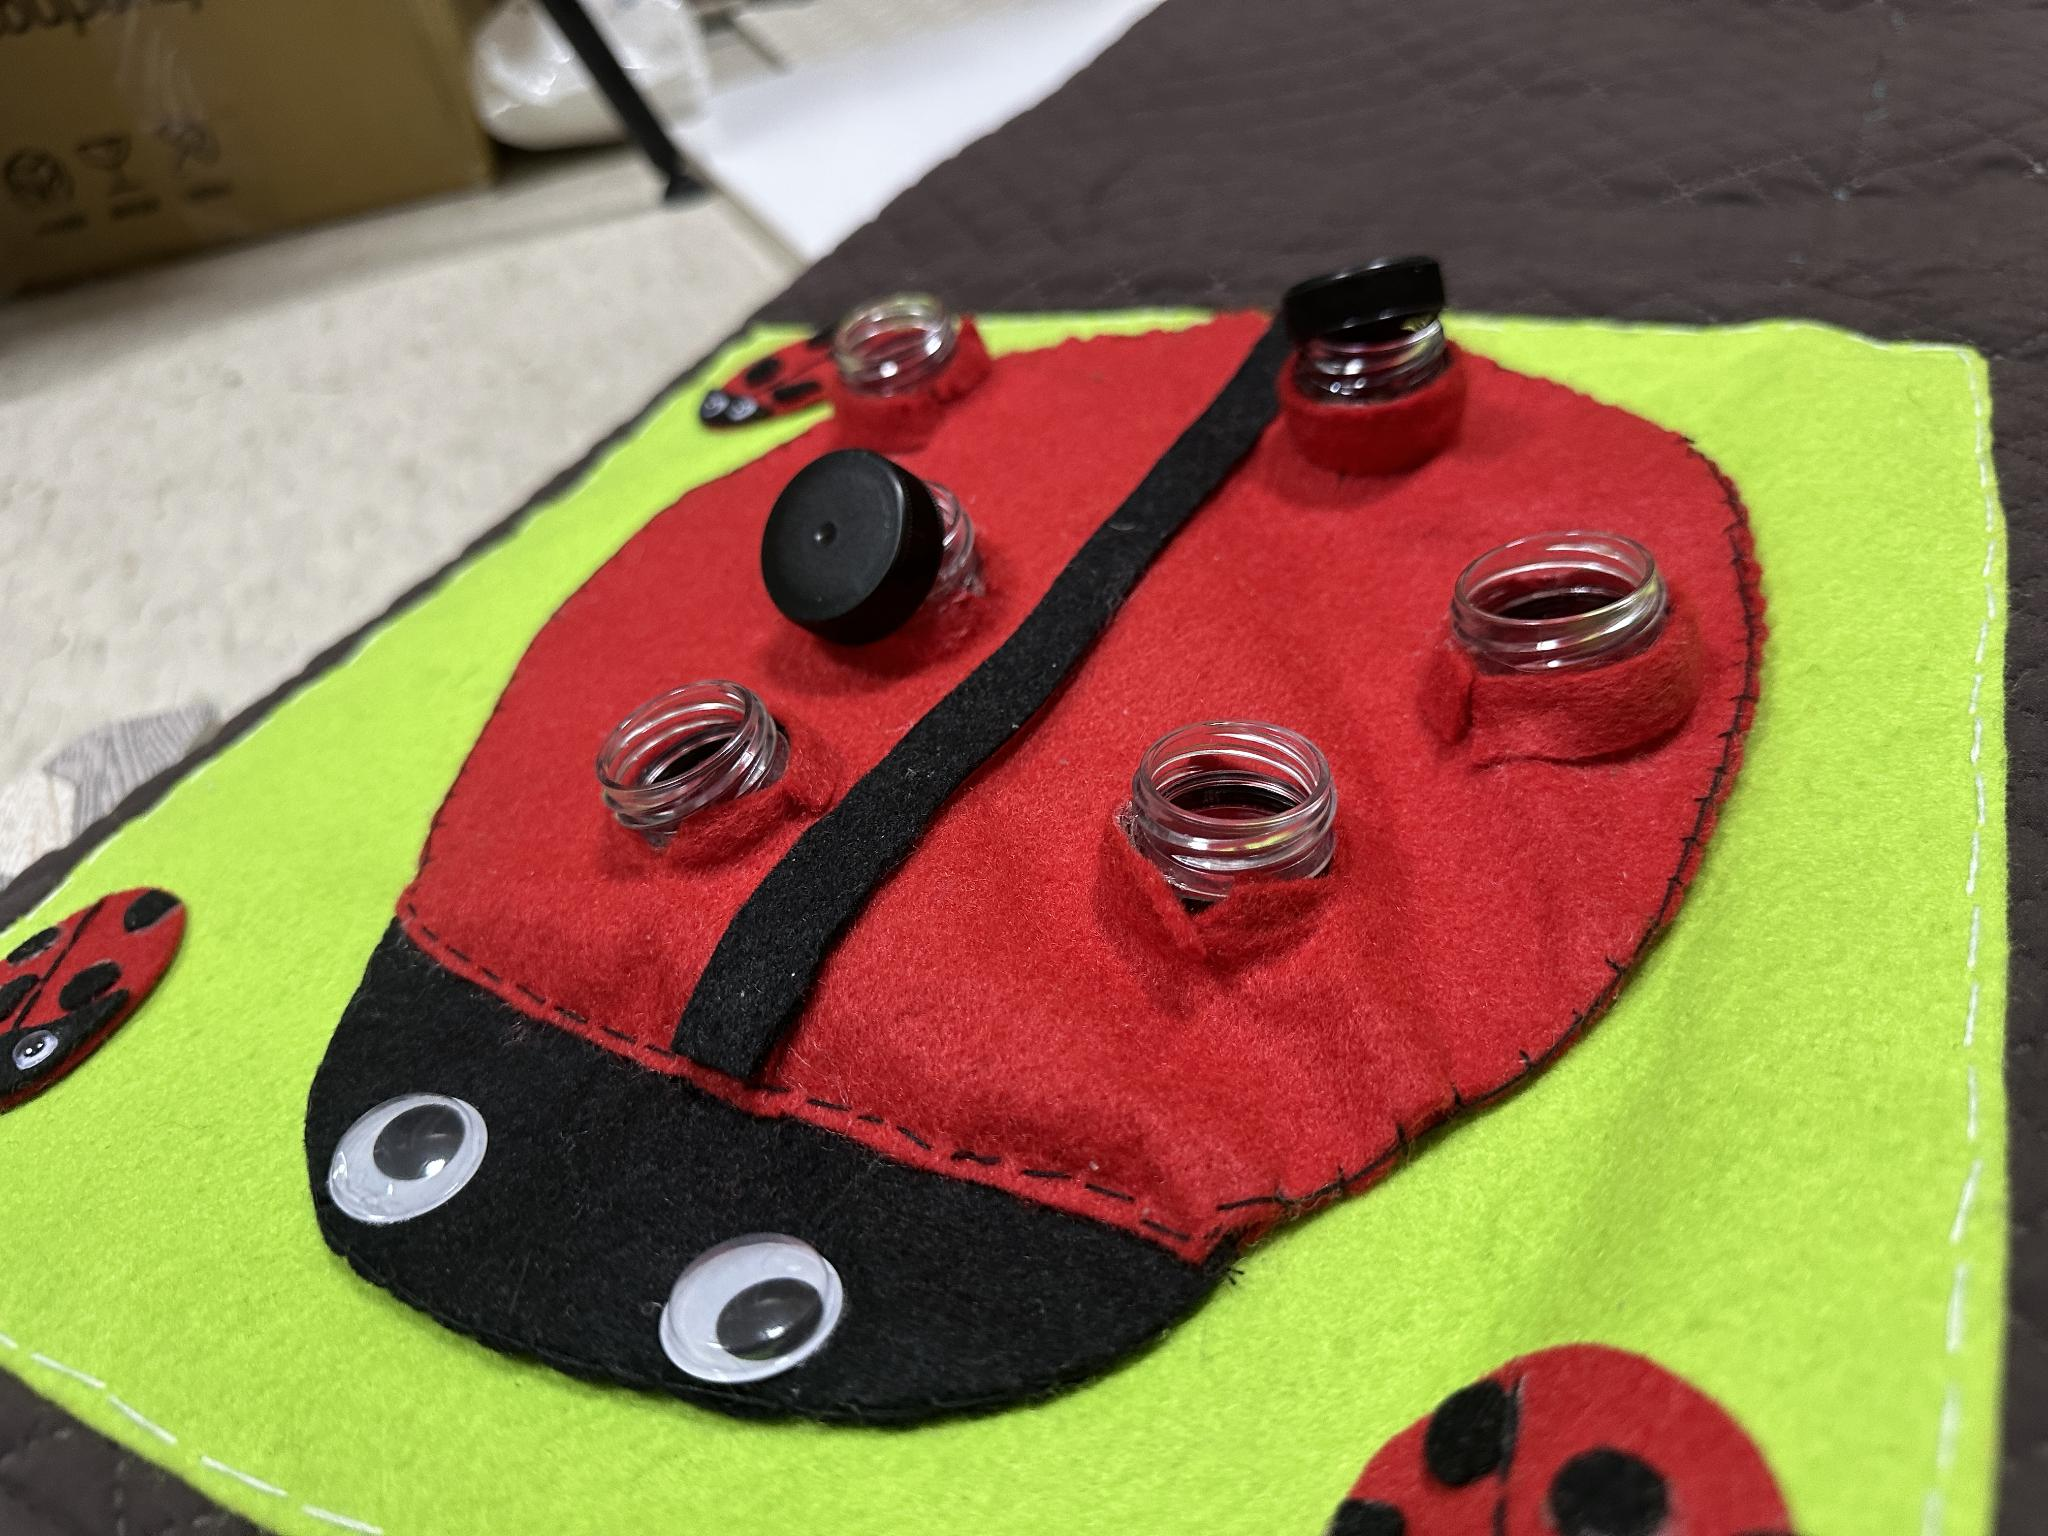cap_ng: (745, 440, 1011, 686), (1277, 245, 1471, 497)
